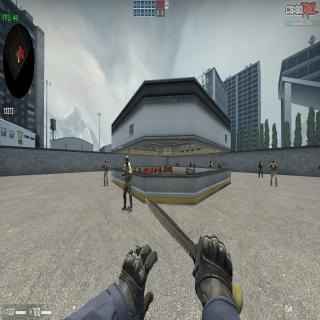CT-Body: (122, 156, 133, 212), (258, 160, 263, 178), (218, 160, 222, 168), (209, 160, 212, 168), (189, 161, 192, 167), (193, 161, 196, 167)
CT-Head: (125, 155, 129, 166), (218, 160, 220, 164), (259, 160, 261, 164), (210, 160, 211, 164), (190, 160, 191, 163), (194, 161, 195, 164)
T-Body: (269, 160, 278, 187), (102, 160, 109, 186), (176, 162, 179, 166)
T-Head: (272, 160, 275, 166), (105, 160, 106, 166), (177, 161, 178, 164)
